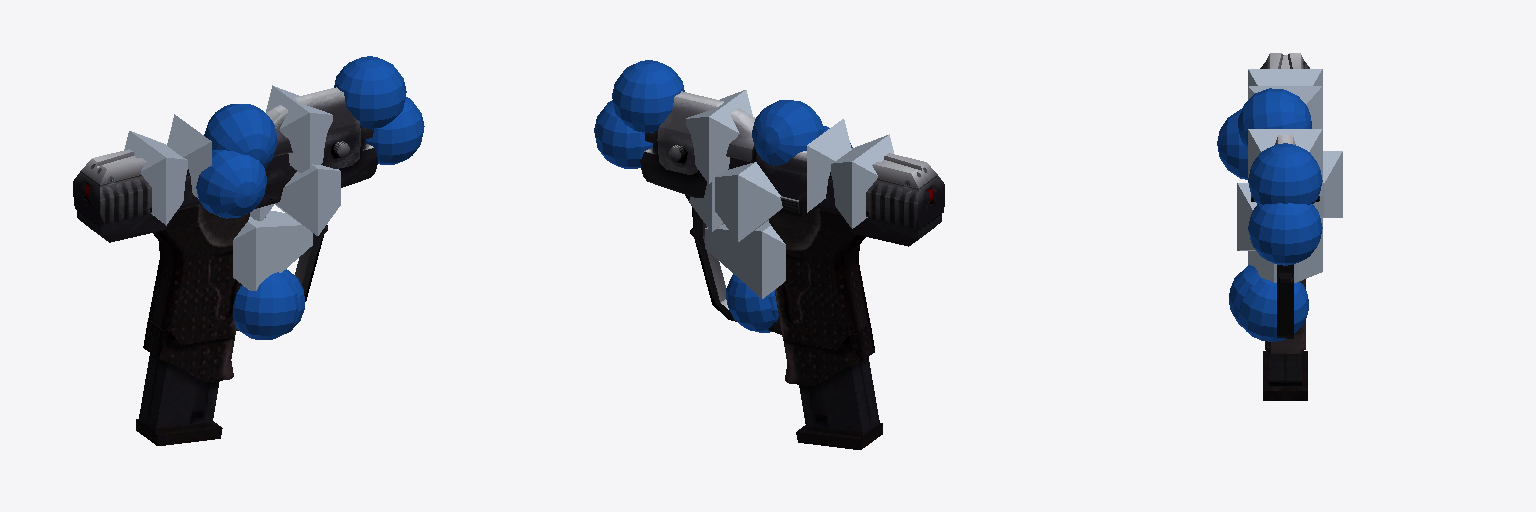
3 views of the same model, side by side, from view 1: azimuth 30°, elevation 25°; view 2: azimuth 150°, elevation 25°; view 3: azimuth 270°, elevation 25° (orthographic).
Parts seen in each view (by area): view 1: __unnamed, frame_gun, _laser, _ground_point, _left_hand_marine, _primary_ejection, frame_trigger, frame_chamber_button, frame_bullet, _primary_trigger, frame_slide; view 2: __unnamed, frame_gun, _laser, frame_slide_release, _primary_ejection, frame_bullet, frame_chamber_button, _primary_trigger, frame_slide, _left_hand_cyborg, frame_trigger; view 3: __unnamed, _primary_trigger, _laser, _primary_ejection, _left_hand_cyborg, frame_bullet, frame_slide_release, _ground_point, frame_chamber_button, frame_gun, frame_slide, frame_trigger (+1 smaller).
Boxes of the visible parts, x1=… form: __unnamed: x1=73, y1=87, x2=377, y2=445; frame_gun: x1=233, y1=210, x2=312, y2=290; _laser: x1=334, y1=56, x2=406, y2=129; _ground_point: x1=196, y1=150, x2=266, y2=218; _left_hand_marine: x1=233, y1=272, x2=298, y2=339; _primary_ejection: x1=204, y1=104, x2=277, y2=167; frame_trigger: x1=275, y1=164, x2=340, y2=235; frame_chamber_button: x1=124, y1=131, x2=187, y2=225; frame_bullet: x1=266, y1=85, x2=332, y2=172; _primary_trigger: x1=366, y1=97, x2=424, y2=164; frame_slide: x1=167, y1=114, x2=211, y2=198; __unnamed: x1=640, y1=91, x2=944, y2=449; frame_gun: x1=705, y1=220, x2=785, y2=298; _laser: x1=612, y1=60, x2=684, y2=132; frame_slide_release: x1=715, y1=162, x2=782, y2=241; _primary_ejection: x1=752, y1=100, x2=824, y2=165; frame_bullet: x1=686, y1=90, x2=752, y2=183; frame_chamber_button: x1=831, y1=134, x2=893, y2=228; _primary_trigger: x1=594, y1=100, x2=652, y2=168; frame_slide: x1=806, y1=119, x2=851, y2=212; _left_hand_cyborg: x1=726, y1=274, x2=775, y2=332; frame_trigger: x1=689, y1=180, x2=723, y2=232; __unnamed: x1=1251, y1=53, x2=1319, y2=400; _primary_trigger: x1=1248, y1=203, x2=1322, y2=265; _laser: x1=1248, y1=143, x2=1322, y2=204; _primary_ejection: x1=1238, y1=88, x2=1311, y2=148; _left_hand_cyborg: x1=1238, y1=278, x2=1308, y2=341; frame_bullet: x1=1248, y1=129, x2=1322, y2=195; frame_slide_release: x1=1313, y1=151, x2=1342, y2=217; _ground_point: x1=1217, y1=109, x2=1247, y2=179; frame_chamber_button: x1=1248, y1=69, x2=1322, y2=85; frame_gun: x1=1248, y1=218, x2=1322, y2=282; frame_slide: x1=1248, y1=86, x2=1322, y2=128; frame_trigger: x1=1237, y1=183, x2=1256, y2=250.
Size of the model in its own units: 10.28 by 9.79 by 3.37.
4 materials, 1 textured.